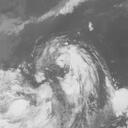cyclone: (40, 40, 108, 117)
